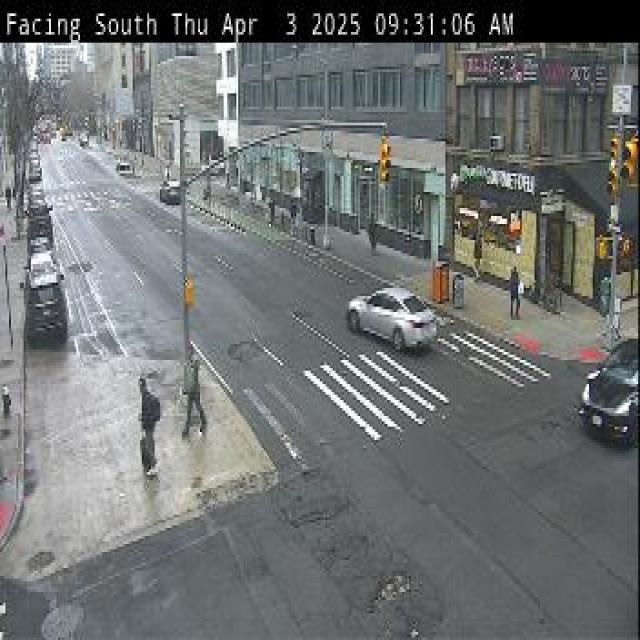open parking: (15, 161, 90, 386)
